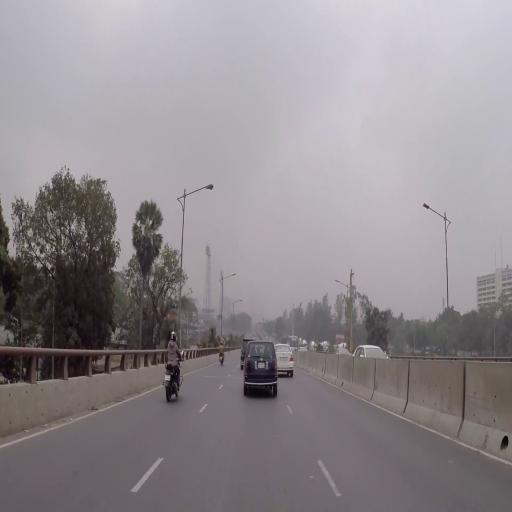bus: (288, 336, 300, 352)
car: (244, 341, 279, 395), (277, 345, 296, 375), (353, 345, 388, 359), (336, 349, 351, 356), (300, 346, 309, 353)
motorbike: (163, 353, 186, 401), (218, 342, 226, 365)
